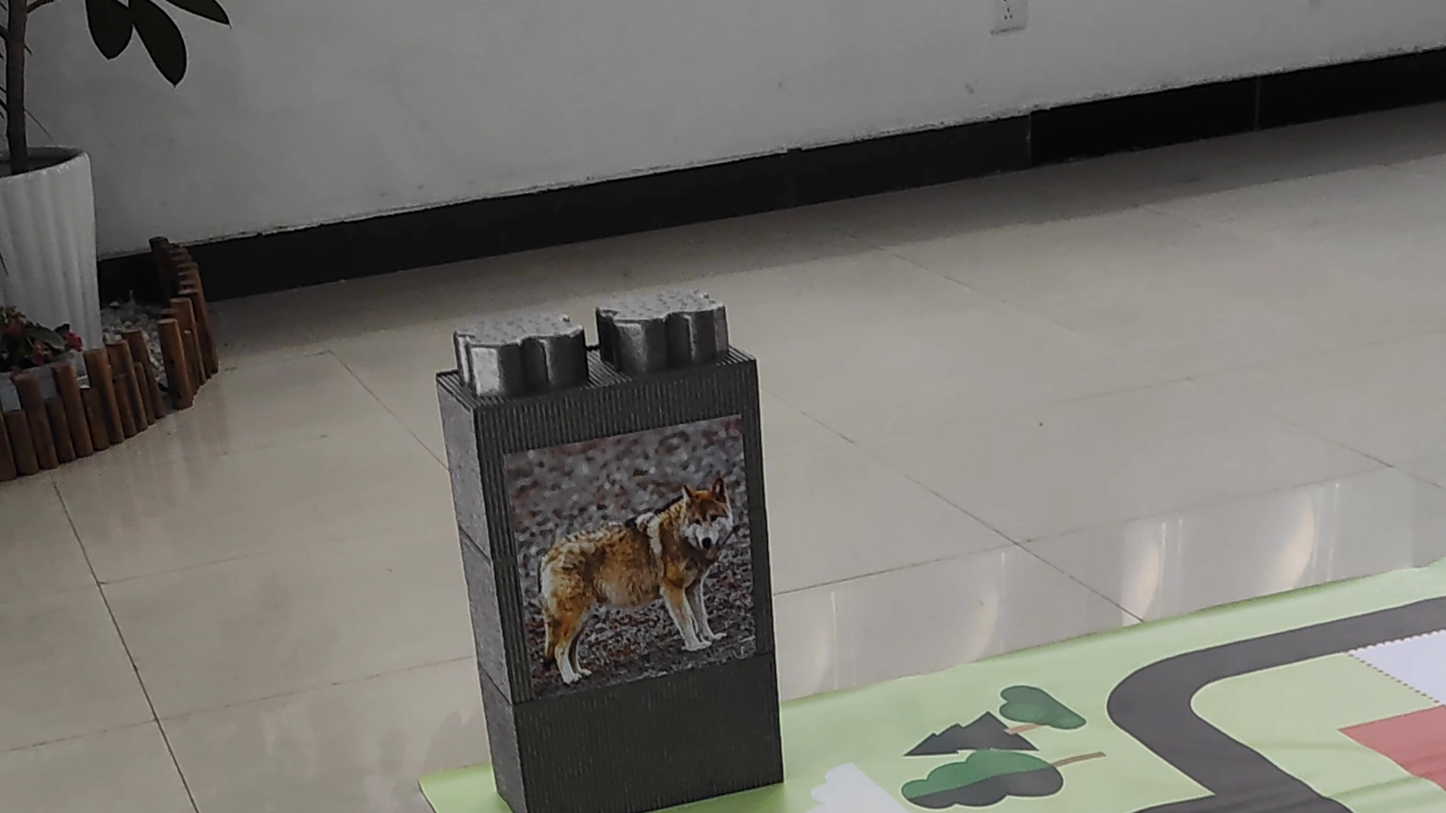wolf: (515, 422, 756, 675)
